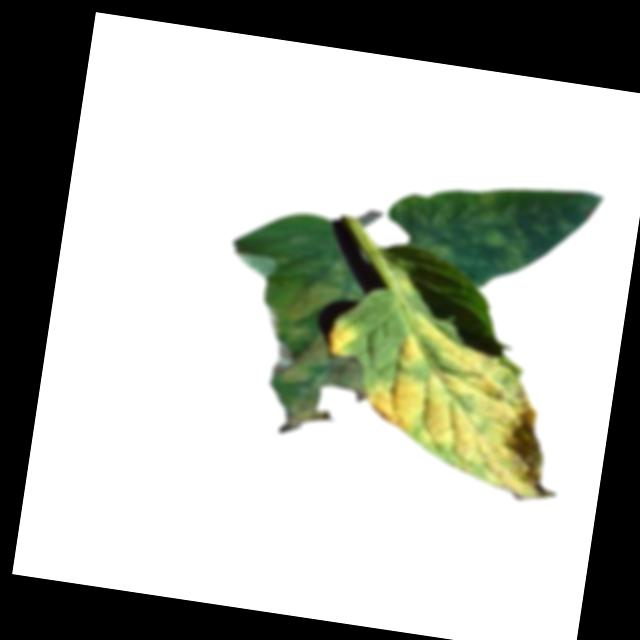Leaf_Mold: (357, 306, 579, 505), (384, 163, 603, 303), (247, 258, 386, 447)
